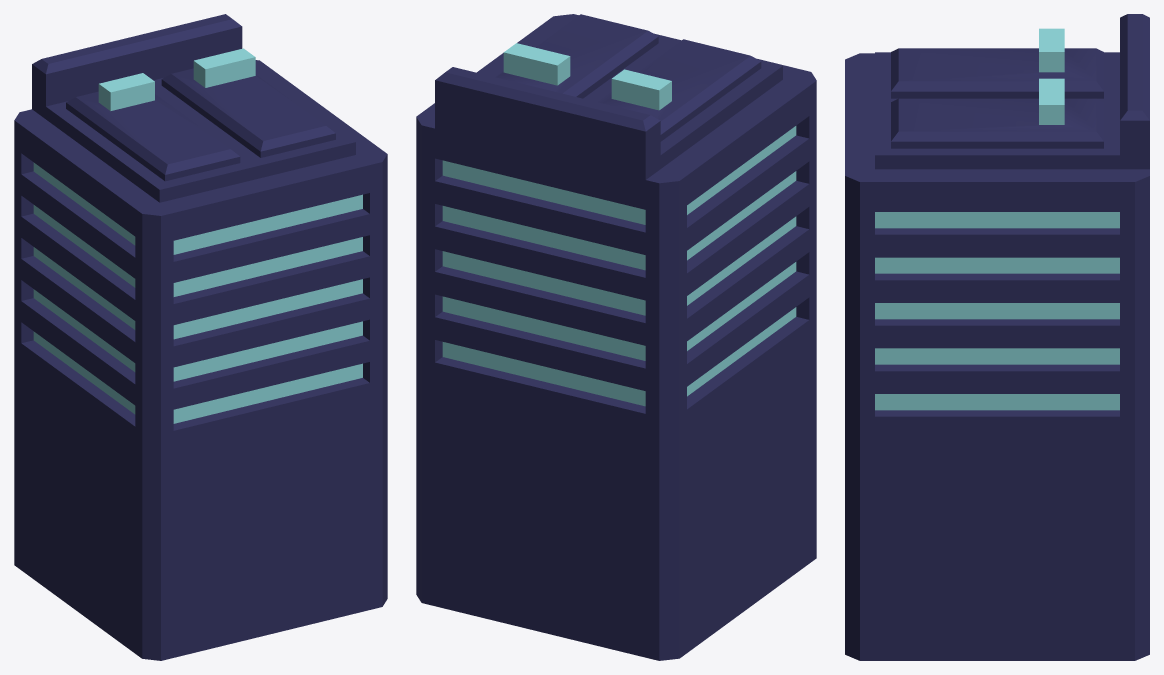
The model's file is Building_1.fbx.
3 renders of one model, left to right at view 1: azimuth 30°, elevation 25°; view 2: azimuth 150°, elevation 25°; view 3: azimuth 270°, elevation 25°, orthographic. The views are drawn at different scales.
Visible parts, largest first — view 1: pCube16; view 2: pCube16; view 3: pCube16.
Boxes of the visible parts, x1,y1,x2,y2 form: pCube16: [14, 14, 387, 660]; pCube16: [416, 14, 816, 660]; pCube16: [845, 14, 1149, 660].
Size of the model in its own units: 5 by 9.66 by 5.
